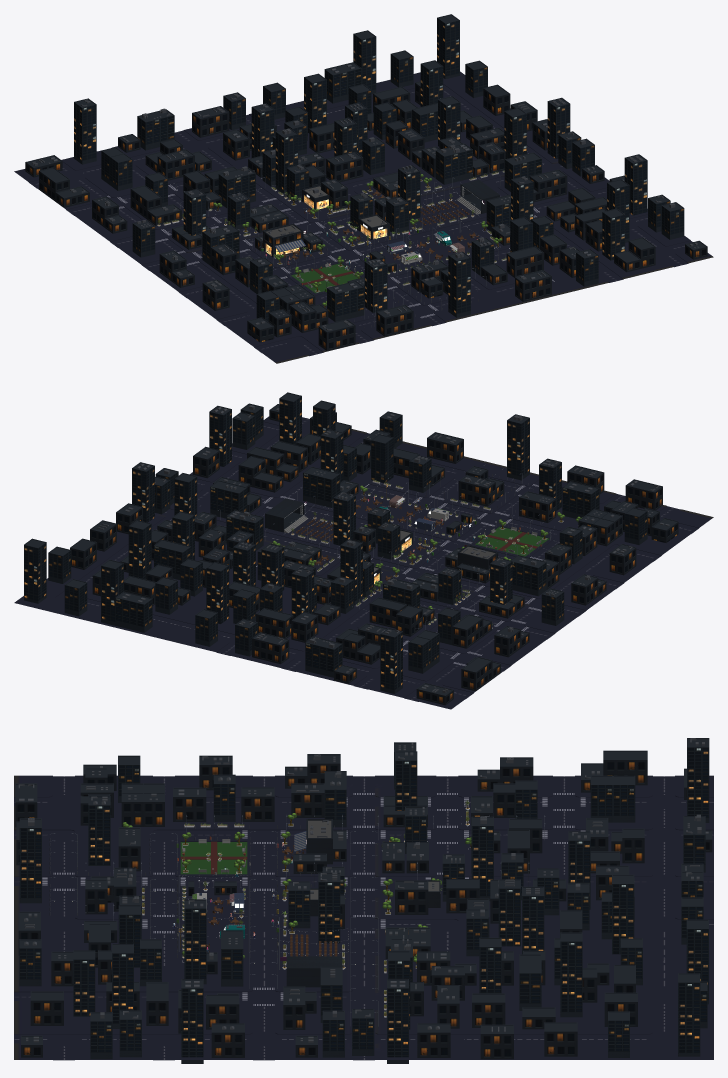
File: dark-city.glb
The picture shows the model from 3 angles, top to bottom: view 1: azimuth 30°, elevation 25°; view 2: azimuth 150°, elevation 25°; view 3: azimuth 270°, elevation 25°; orthographic projection. The views are drawn at different scales.
Parts seen in each view (by area): view 1: B1_V42, City_Base, Shape_2_Vent3, Shops1, musical_Cencert, pPlane23, All_Trees, Plant_Box45, Table_Chairs1, Road_Light106; view 2: B1_V42, City_Base, Shape_2_Vent3, musical_Cencert, Shops1, pPlane23, Road_Light106, Table_Chairs1, All_Trees, Plant_Box45; view 3: B1_V42, City_Base, Shape_2_Vent3, pPlane23, Shops1, musical_Cencert, Road_Light106, All_Trees, Plant_Box45, Poll317, Table_Chairs1.
Part boxes in pixels (box(x1,y1,x2,y2)): B1_V42: box(25, 14, 707, 350); City_Base: box(14, 71, 713, 363); Shape_2_Vent3: box(32, 64, 699, 330); Shops1: box(263, 214, 389, 257); musical_Cencert: box(457, 180, 499, 214); pPlane23: box(107, 184, 539, 317); All_Trees: box(242, 181, 418, 307); Plant_Box45: box(163, 170, 506, 285); Table_Chairs1: box(280, 190, 478, 288); Road_Light106: box(248, 193, 498, 326); B1_V42: box(24, 392, 678, 705); City_Base: box(14, 416, 713, 709); Shape_2_Vent3: box(97, 405, 669, 693); musical_Cencert: box(265, 498, 308, 533); Shops1: box(400, 529, 498, 569); pPlane23: box(263, 484, 542, 665); Road_Light106: box(287, 464, 556, 593); Table_Chairs1: box(315, 496, 537, 580); All_Trees: box(308, 512, 582, 591); Plant_Box45: box(271, 479, 490, 606); B1_V42: box(15, 738, 712, 1063); City_Base: box(14, 775, 713, 1060); Shape_2_Vent3: box(18, 738, 708, 1042); pPlane23: box(42, 793, 585, 1005); Shops1: box(294, 819, 332, 916); musical_Cencert: box(286, 956, 342, 987); Road_Light106: box(50, 815, 417, 988); All_Trees: box(122, 813, 441, 933); Plant_Box45: box(142, 810, 468, 1017); Poll317: box(49, 825, 334, 957); Table_Chairs1: box(182, 839, 408, 952).
Bounding box in the file's own units: 121 × 20.14 × 126.
Materials: 19 (12 with a texture image).
